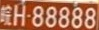H: (14, 5, 25, 26)
